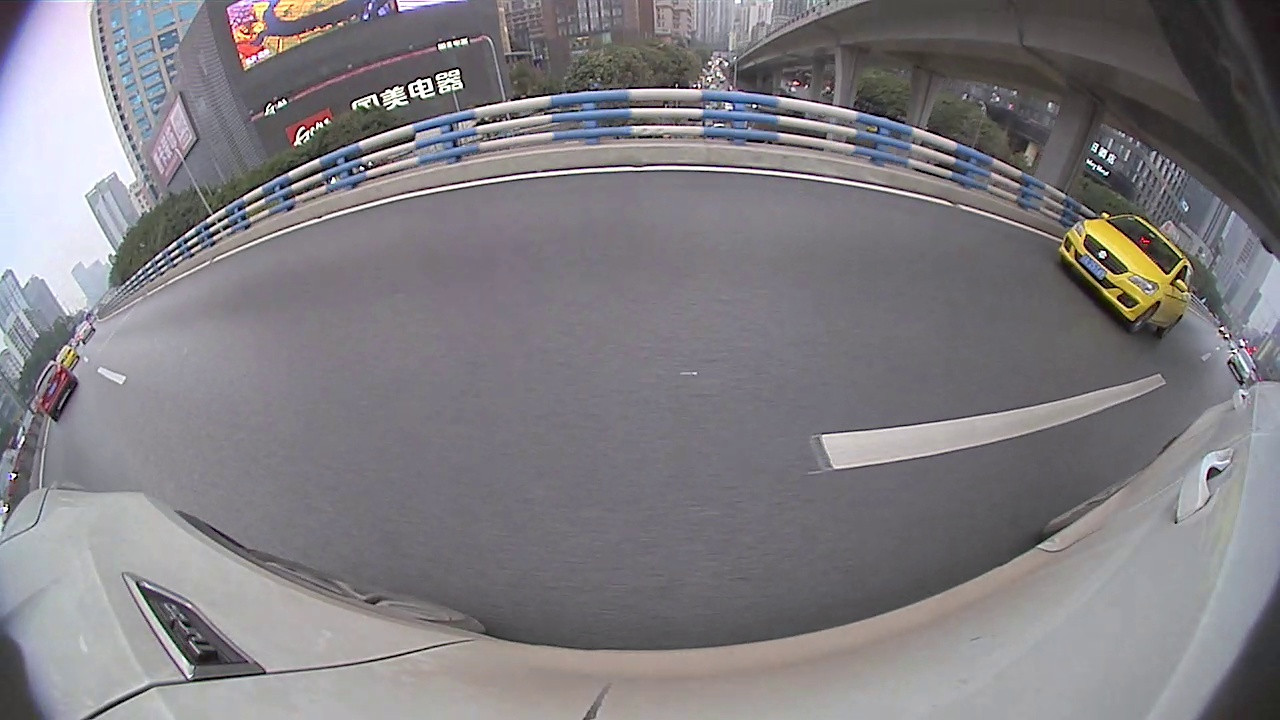bus: (695, 147, 729, 182)
car: (984, 187, 1279, 434), (857, 174, 989, 240), (463, 153, 567, 218), (732, 143, 828, 209), (621, 139, 706, 211), (566, 155, 602, 192), (818, 172, 846, 205)
front: (996, 240, 1065, 316), (861, 189, 874, 213), (733, 171, 744, 192), (560, 181, 567, 199)
rear: (917, 207, 938, 230), (762, 174, 777, 199), (535, 183, 545, 205)
